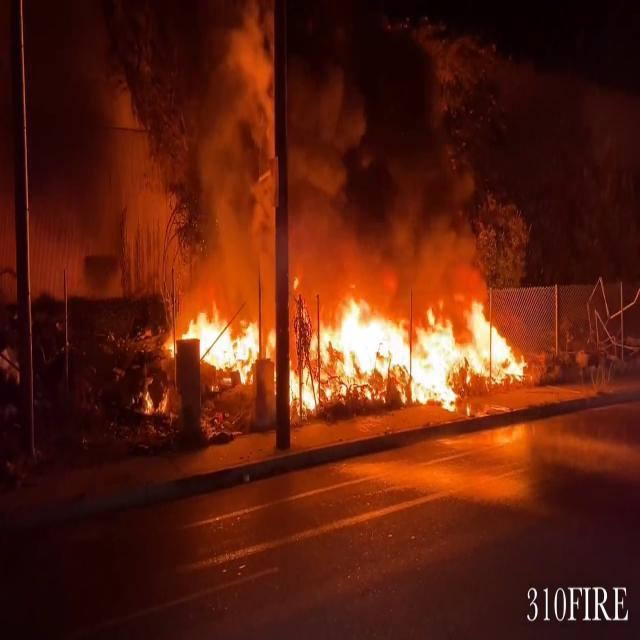Fire: (172, 274, 530, 416)
Smoke: (4, 2, 466, 286)
